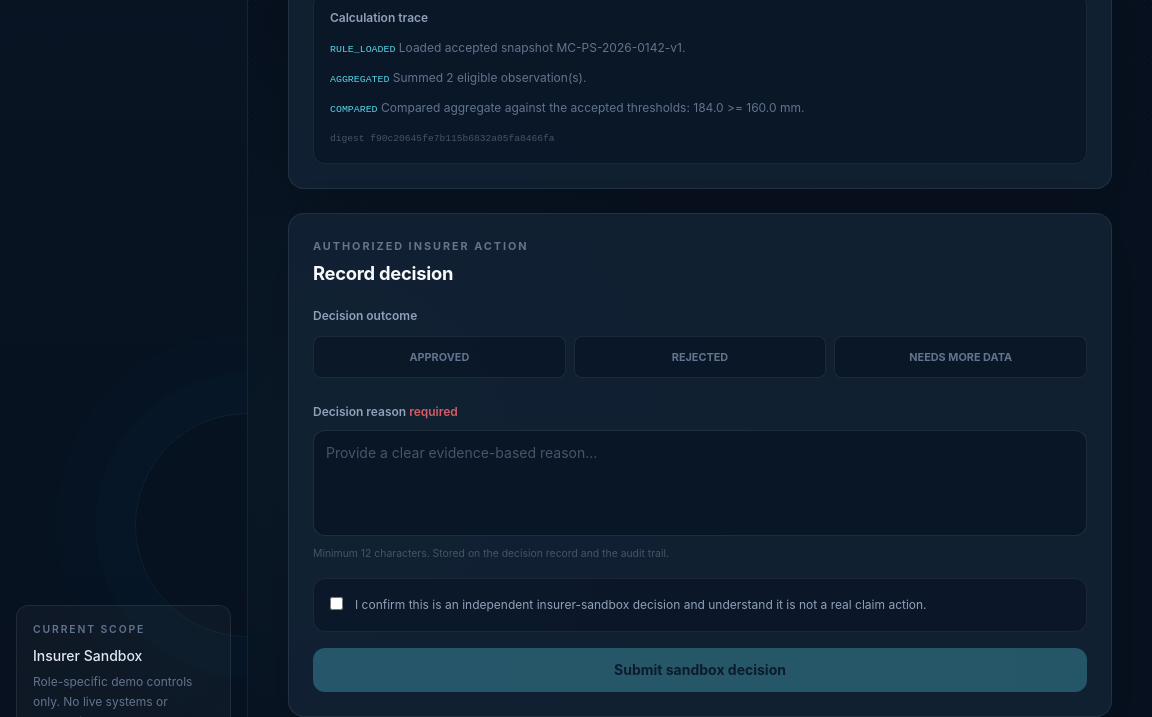
Test: MonsoonCover frontend foundation › shows the evidence packet and records a decision through the API
(page scrolled)
expect the button "Submit sandbox decision" is disabled: met, box [313, 648, 1087, 692]
Step 1. Click the button "APPROVED" → click(439, 357), box [313, 336, 566, 378]
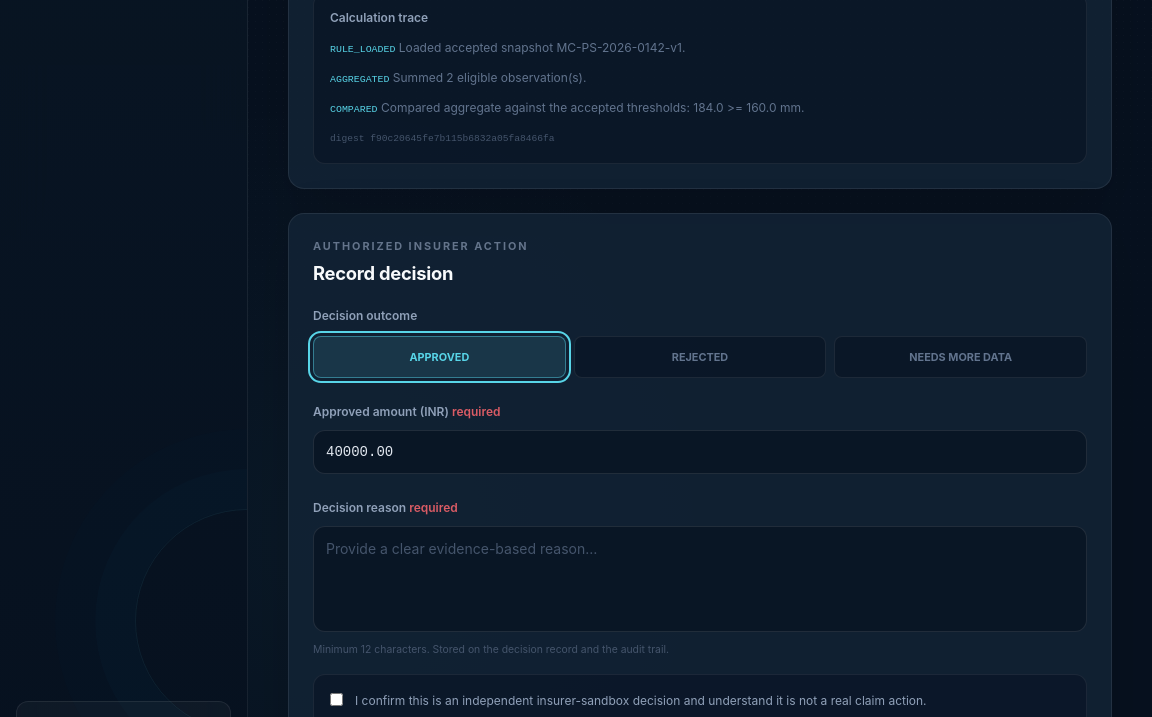
Step 2. Type "Evidence reviewed against the accepted snapshot rule." into the text box labelled "Decision reason" → (700, 579), box [313, 526, 1087, 632]
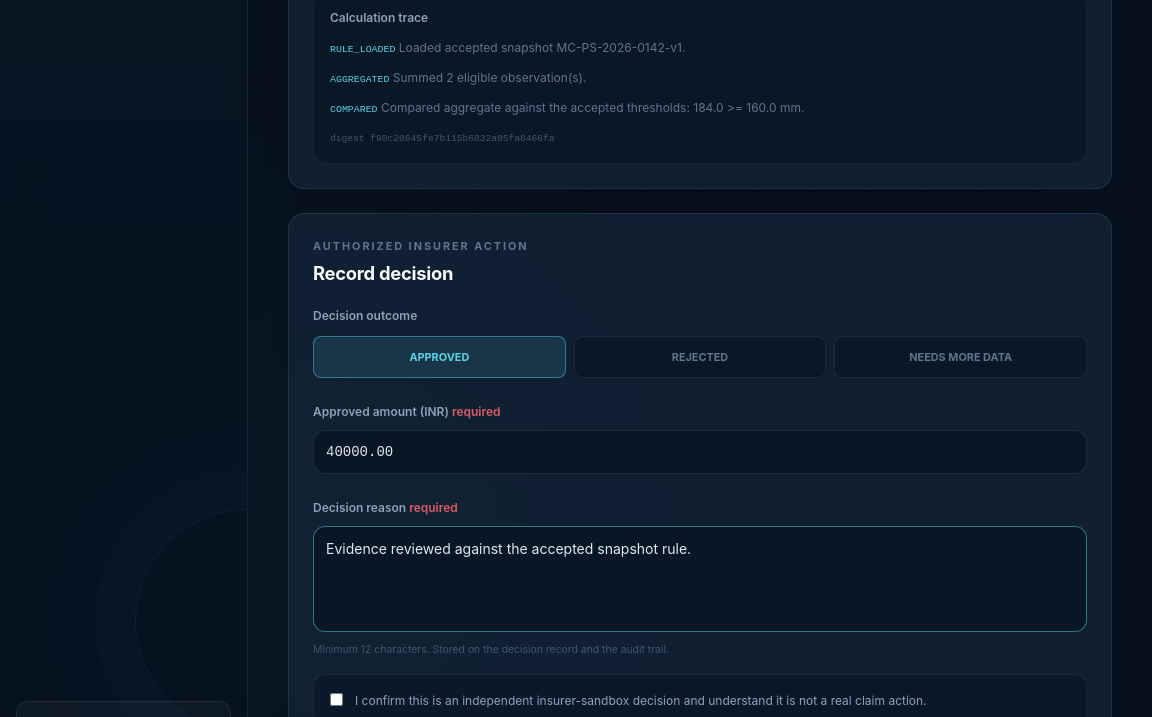
Step 3. Click the checkbox → click(336, 699), box [330, 693, 343, 706]
(page scrolled)
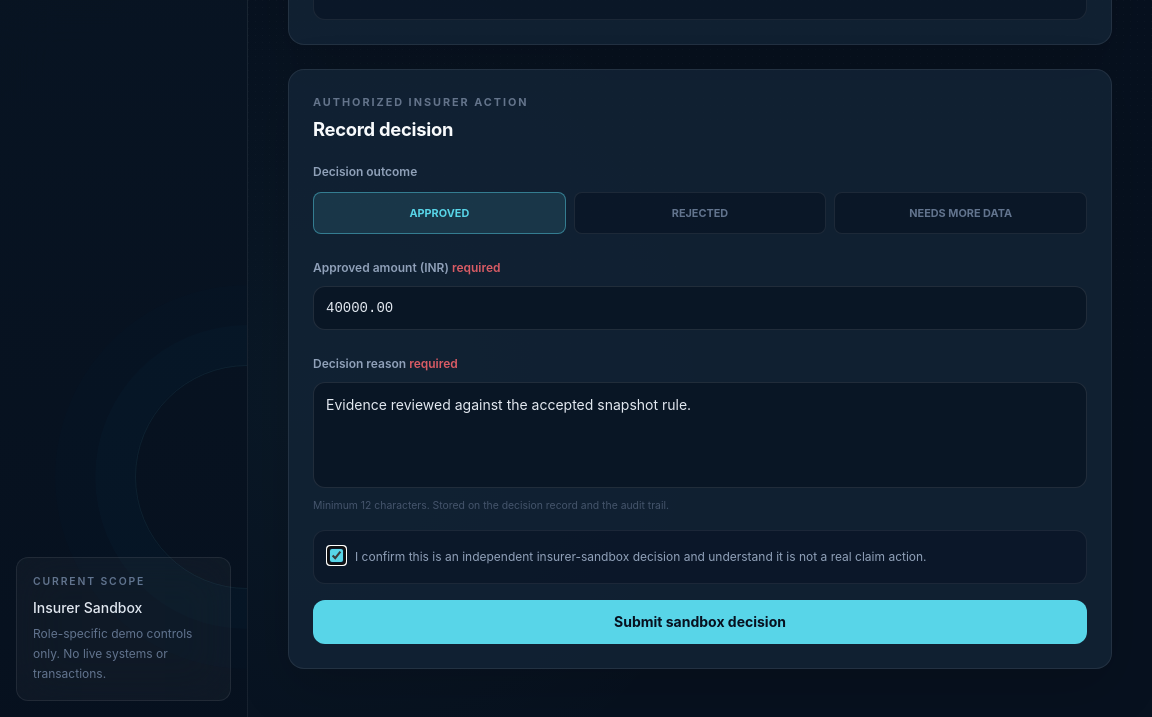
expect the button "Submit sandbox decision" is enabled: met
Step 4. Click the button "Submit sandbox decision" → click(700, 622), box [313, 600, 1087, 644]
(page scrolled)
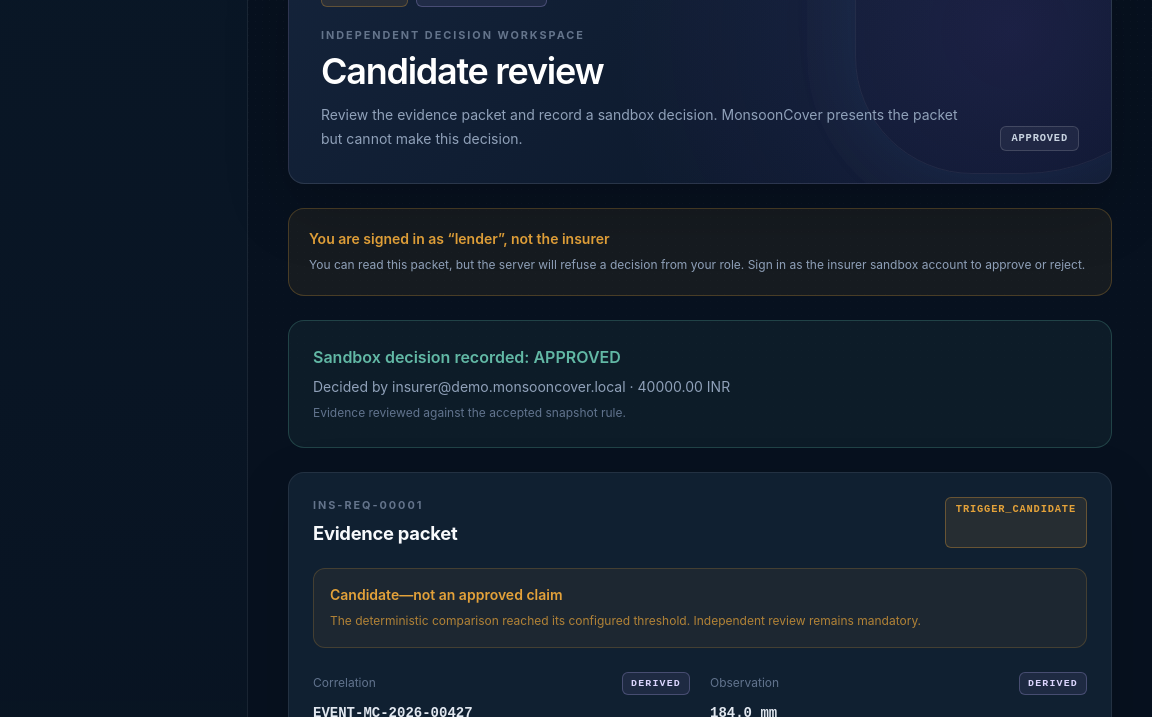
expect the text "Sandbox decision recorded: APPROVED" is shown: met, box [313, 347, 621, 367]
